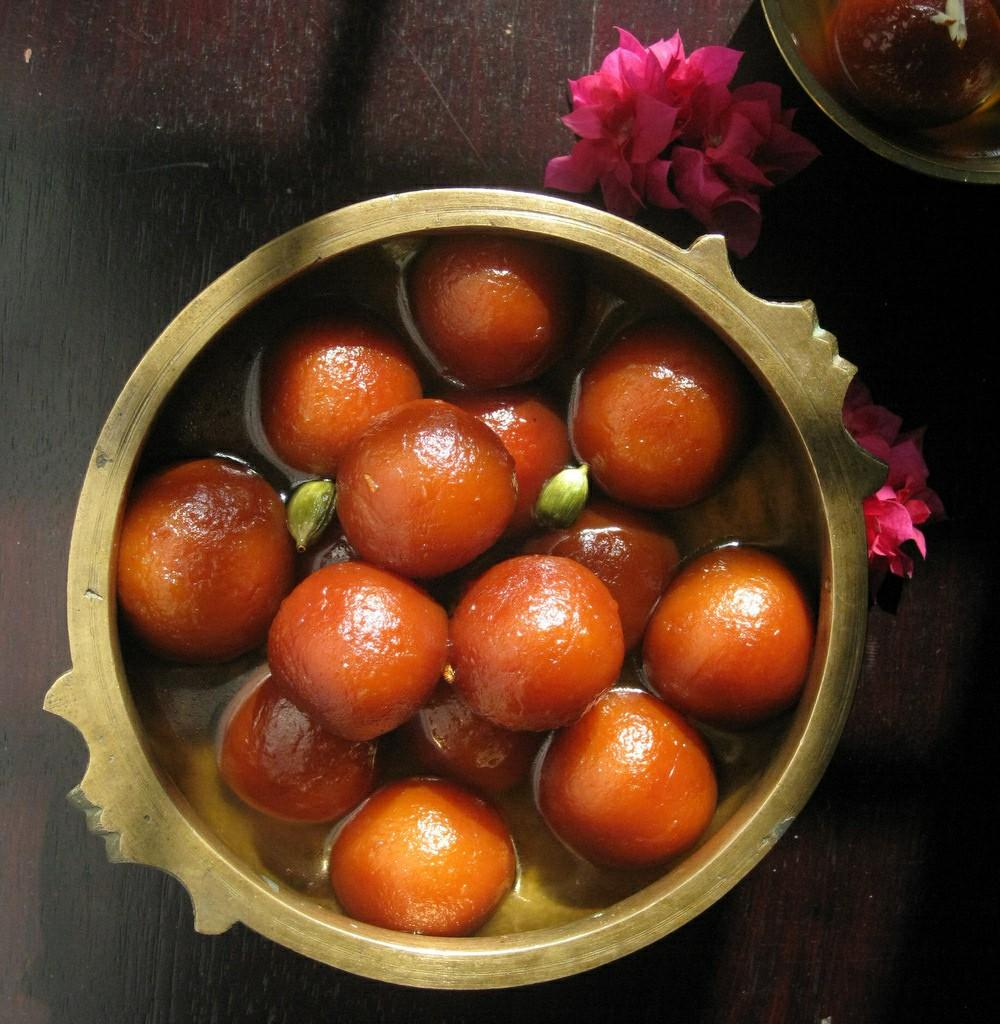GulabJamun: (532, 686, 720, 872), (113, 452, 291, 648), (256, 568, 448, 740), (328, 772, 520, 938), (646, 542, 816, 723), (410, 228, 591, 392), (456, 548, 623, 722), (341, 405, 515, 570), (260, 314, 424, 482), (573, 350, 730, 508), (220, 672, 376, 829), (542, 510, 688, 666), (450, 389, 578, 541), (398, 693, 535, 802)
